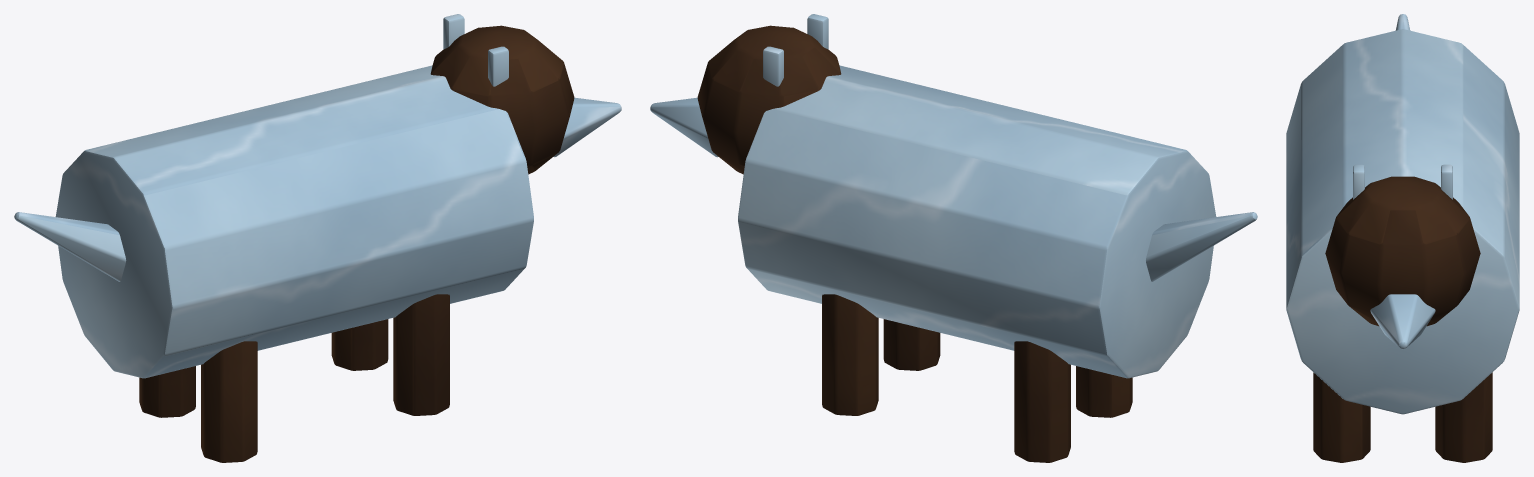
Rendered from unit_outcast_great_wold.fbx.
The picture shows the model from 3 angles, left to right: view 1: azimuth 30°, elevation 25°; view 2: azimuth 150°, elevation 25°; view 3: azimuth 270°, elevation 25°; orthographic projection.
Visible parts, largest first — view 1: unit_outcast_great_wold; view 2: unit_outcast_great_wold; view 3: unit_outcast_great_wold.
Part boxes in pixels (x1,y1,x2,y2): unit_outcast_great_wold: (14,14,621,462); unit_outcast_great_wold: (650,14,1257,462); unit_outcast_great_wold: (1286,14,1519,462).
Size of the model in its own units: 2.83 by 1.47 by 0.9567.
